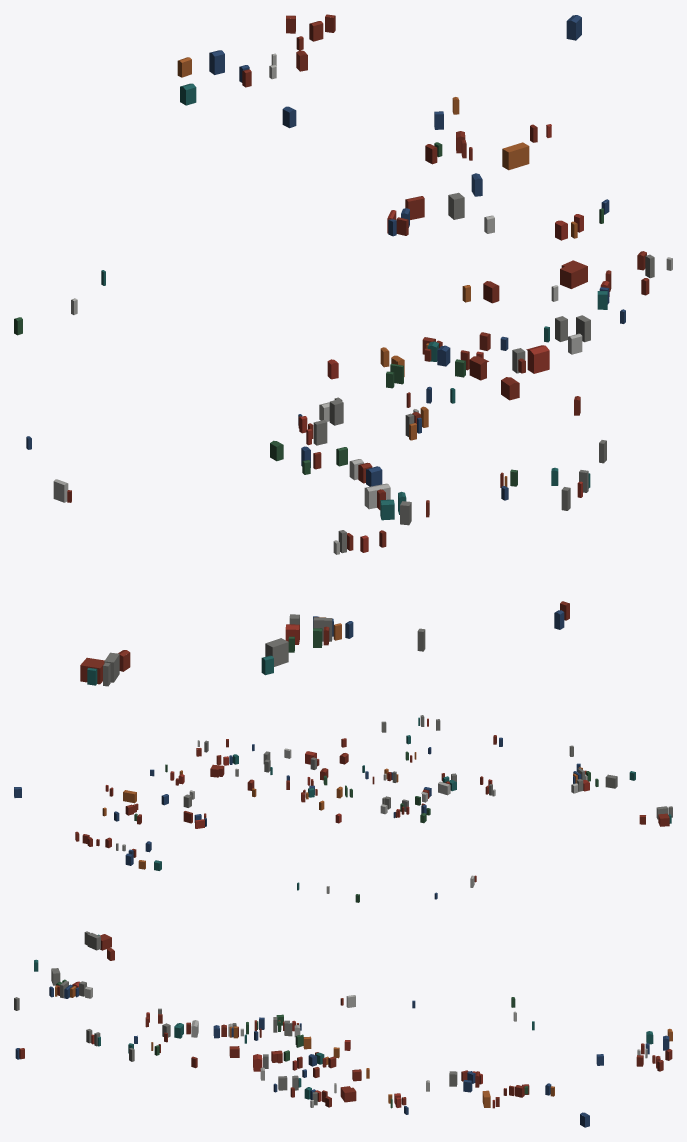
File: near-15-27351-14876.7fa3673c.glb
3 renders of one model, top to bottom at view 1: azimuth 30°, elevation 25°; view 2: azimuth 150°, elevation 25°; view 3: azimuth 270°, elevation 25°, orthographic. The views are drawn at different scales.
Bounding box in the file's own units: 1082 × 194 × 1142.
